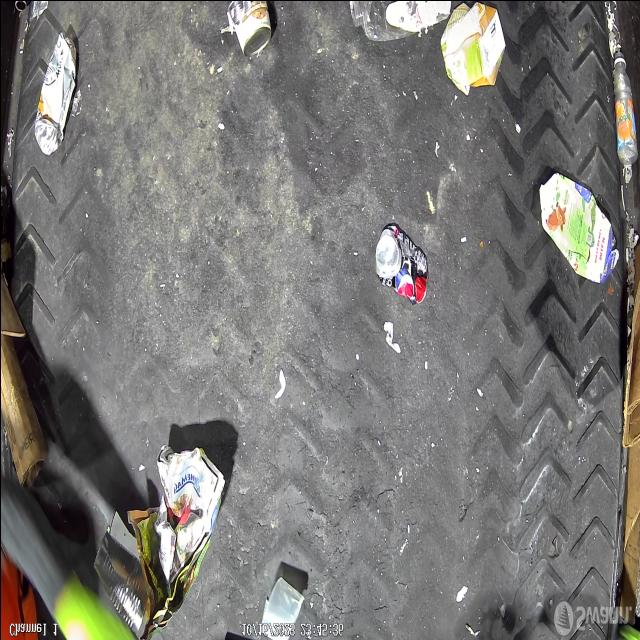can: (92, 529, 148, 639), (33, 30, 76, 155), (374, 222, 428, 304), (226, 0, 271, 56)
non_white_jug: (539, 172, 618, 283), (438, 0, 504, 96)
plastic_bottle: (348, 0, 450, 42), (612, 51, 638, 165)
